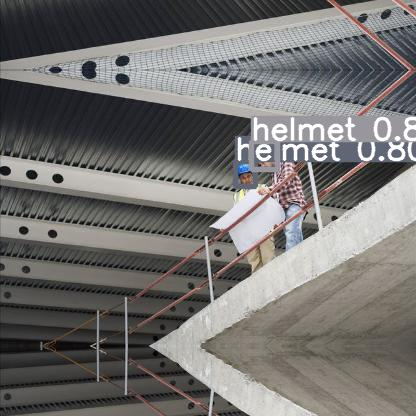helmet: (251, 141, 277, 169), (235, 161, 255, 186)
